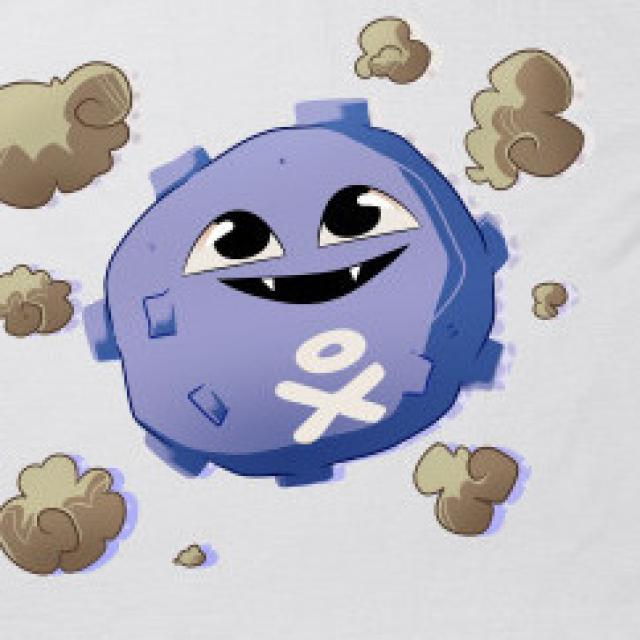Koffing: (106, 113, 507, 483)
